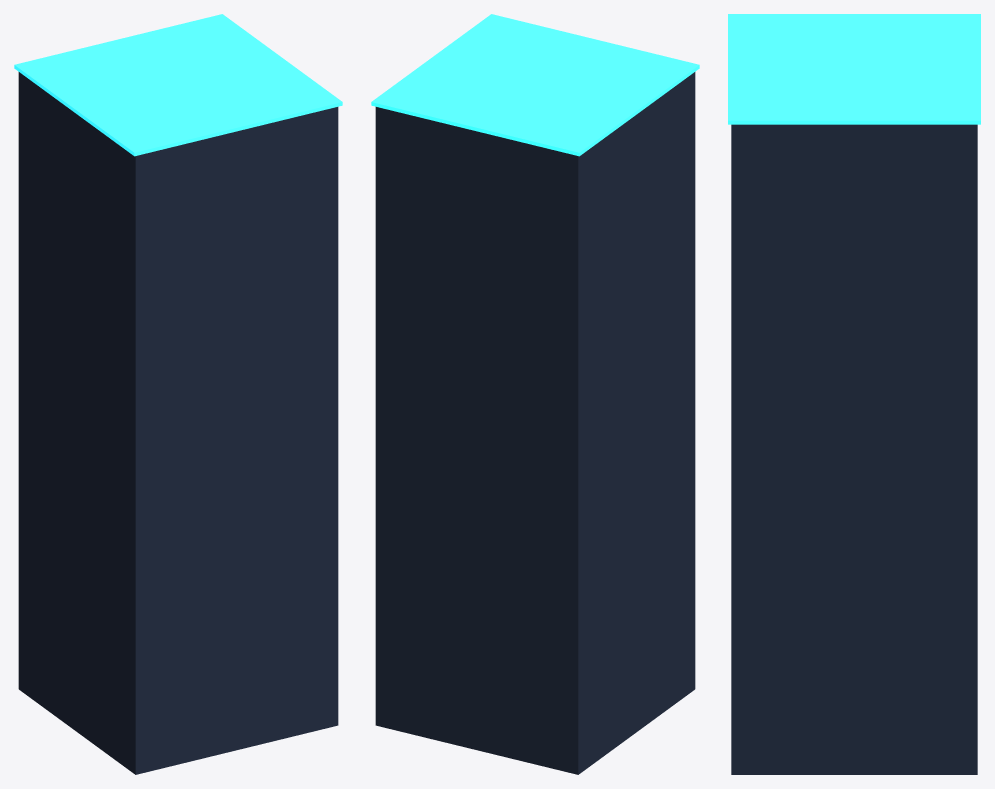
The model's file is highway-tower.gltf.
The picture shows the model from 3 angles, left to right: view 1: azimuth 30°, elevation 25°; view 2: azimuth 150°, elevation 25°; view 3: azimuth 270°, elevation 25°; orthographic projection. The views are drawn at different scales.
Parts seen in each view (by area): view 1: structure, neon-cornice; view 2: structure, neon-cornice; view 3: structure, neon-cornice.
Part boxes in pixels (<box>): structure: <box>18,72,338,774</box>; neon-cornice: <box>14,14,342,156</box>; structure: <box>375,72,695,774</box>; neon-cornice: <box>371,14,699,156</box>; structure: <box>731,124,977,774</box>; neon-cornice: <box>728,14,980,124</box>.
Size of the model in its own units: 13.35 by 38.22 by 13.35.
